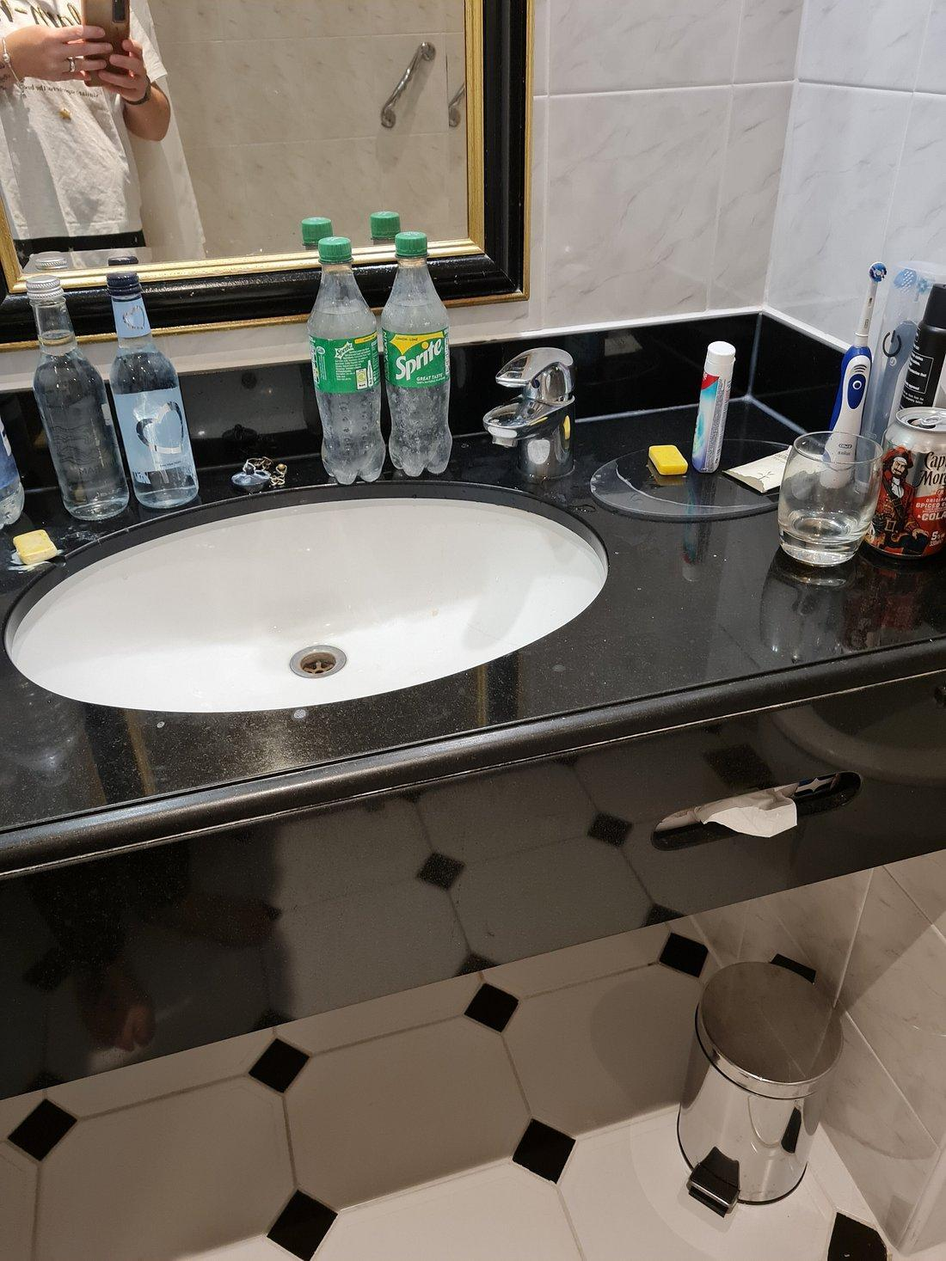messy_sink: (0, 258, 946, 958)
